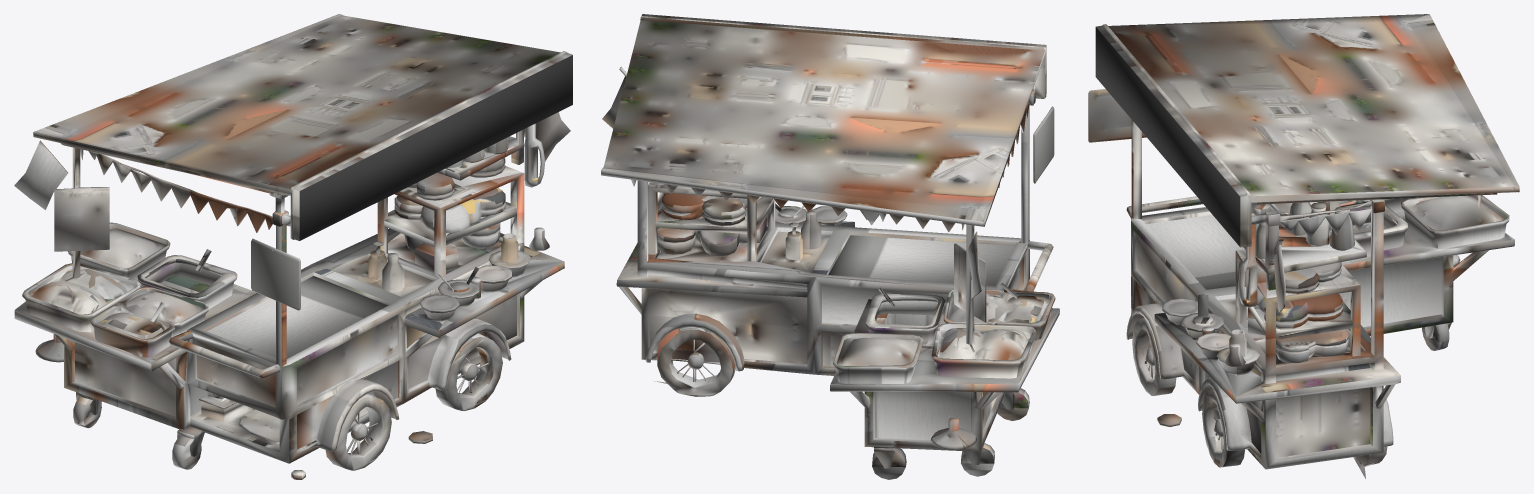
Rendered from venta de arepa.fbx.
3 views of the same model, side by side, from view 1: azimuth 30°, elevation 25°; view 2: azimuth 150°, elevation 25°; view 3: azimuth 270°, elevation 25° (orthographic). The views are drawn at different scales.
Visible parts, largest first — view 1: mesh_rep_0_ori_repair; view 2: mesh_rep_0_ori_repair; view 3: mesh_rep_0_ori_repair.
Part boxes in pixels (<box>): mesh_rep_0_ori_repair: <box>14,14,572,479</box>; mesh_rep_0_ori_repair: <box>601,14,1059,479</box>; mesh_rep_0_ori_repair: <box>1088,14,1519,478</box>.
Size of the model in its own units: 841 by 526 by 631.
2 materials, 1 textured.
